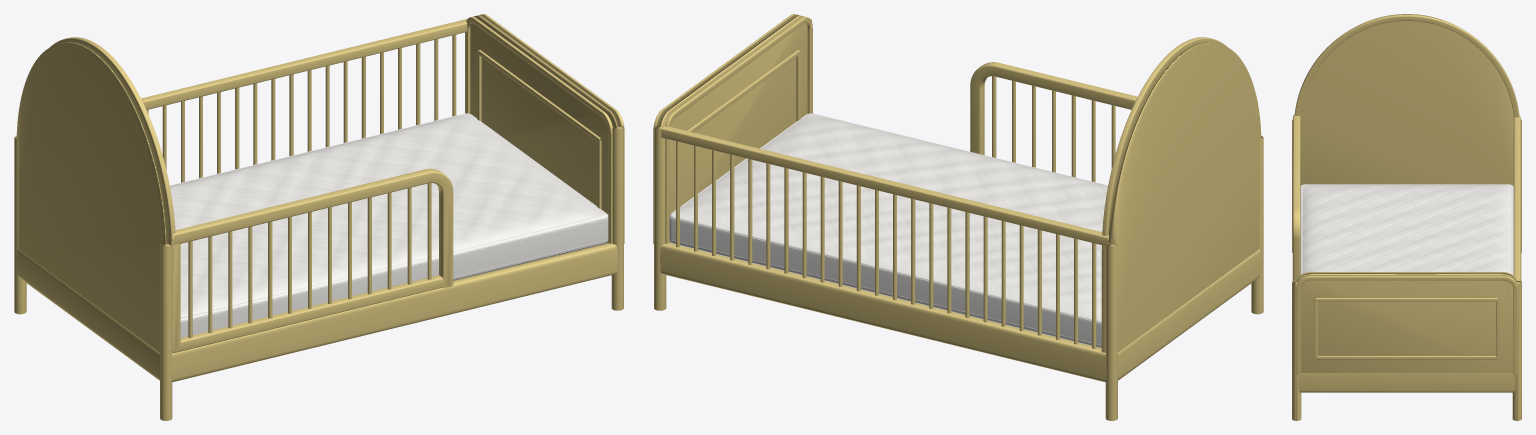
File: yellow_toto3_kids.glb
3 renders of one model, left to right at view 1: azimuth 30°, elevation 25°; view 2: azimuth 150°, elevation 25°; view 3: azimuth 270°, elevation 25°, orthographic. The views are drawn at different scales.
Parts seen in each view (by area): view 1: White diamond quilted comforter, Solid arched headboard, Long base rail, Solid footboard with softened top corners, Fitted ivory mattress covering bed deck 2000 x 1110 x 120 mm, Front guard rounded entry corner, Rounded corner leg (×3), Back upper rail, End base rail, Front lower rail, Footboard outer rounded molding, Raised rounded arch border (+3 smaller); view 2: White diamond quilted comforter, Solid arched headboard, Long base rail, Solid footboard with softened top corners, Fitted ivory mattress covering bed deck 2000 x 1110 x 120 mm, Back upper rail, Rounded corner leg (×3), End base rail, Front guard rounded entry corner, Footboard outer rounded molding, Raised rounded arch border, Footboard inset horizontal molding; view 3: Solid arched headboard, White diamond quilted comforter, Solid footboard with softened top corners, End base rail, Footboard outer rounded molding (×2), Raised rounded arch border, Rounded corner leg (×2), Front guard rounded entry corner, Footboard inset horizontal molding (×2), Back upper rail, Fitted ivory mattress covering bed deck 2000 x 1110 x 120 mm, Footboard inset vertical molding (×2).
Boxes of the visible parts, x1,y1,x2,y2 form: White diamond quilted comforter: (170,113,605,317); Solid arched headboard: (16,42,169,352); Long base rail: (171,243,617,382); Solid footboard with softened top corners: (470,14,621,214); Fitted ivory mattress covering bed deck 2000 x 1110 x 120 mm: (169,113,608,337); Front guard rounded entry corner: (173,168,453,287); Rounded corner leg (×3): (14,126,623,420); Back upper rail: (141,19,467,109); End base rail: (17,249,159,380); Front lower rail: (172,275,443,353); Footboard outer rounded molding: (465,16,612,243); Raised rounded arch border: (50,37,175,352); White diamond quilted comforter: (672,113,1107,318); Solid arched headboard: (1108,42,1261,352); Long base rail: (660,243,1106,382); Solid footboard with softened top corners: (656,14,807,214); Fitted ivory mattress covering bed deck 2000 x 1110 x 120 mm: (669,113,1108,348); Back upper rail: (661,126,1108,245); Rounded corner leg (×3): (654,126,1263,420); End base rail: (1118,249,1260,380); Front guard rounded entry corner: (970,62,1137,155); Footboard outer rounded molding: (665,16,812,243); Raised rounded arch border: (1101,37,1227,352); Footboard inset horizontal molding: (687,50,799,132); Solid arched headboard: (1300,14,1513,185); White diamond quilted comforter: (1302,184,1511,273); Solid footboard with softened top corners: (1297,272,1516,372); End base rail: (1298,373,1515,392); Footboard outer rounded molding (×2): (1296,272,1517,374); Raised rounded arch border: (1294,14,1519,117); Rounded corner leg (×2): (1292,280,1521,420); Front guard rounded entry corner: (1292,115,1300,280); Footboard inset horizontal molding (×2): (1316,298,1497,359); Back upper rail: (1513,116,1520,280); Fitted ivory mattress covering bed deck 2000 x 1110 x 120 mm: (1300,184,1513,275); Footboard inset vertical molding (×2): (1314,299,1499,358).
Size of the model in its own units: 2.1 by 1.37 by 1.19.
